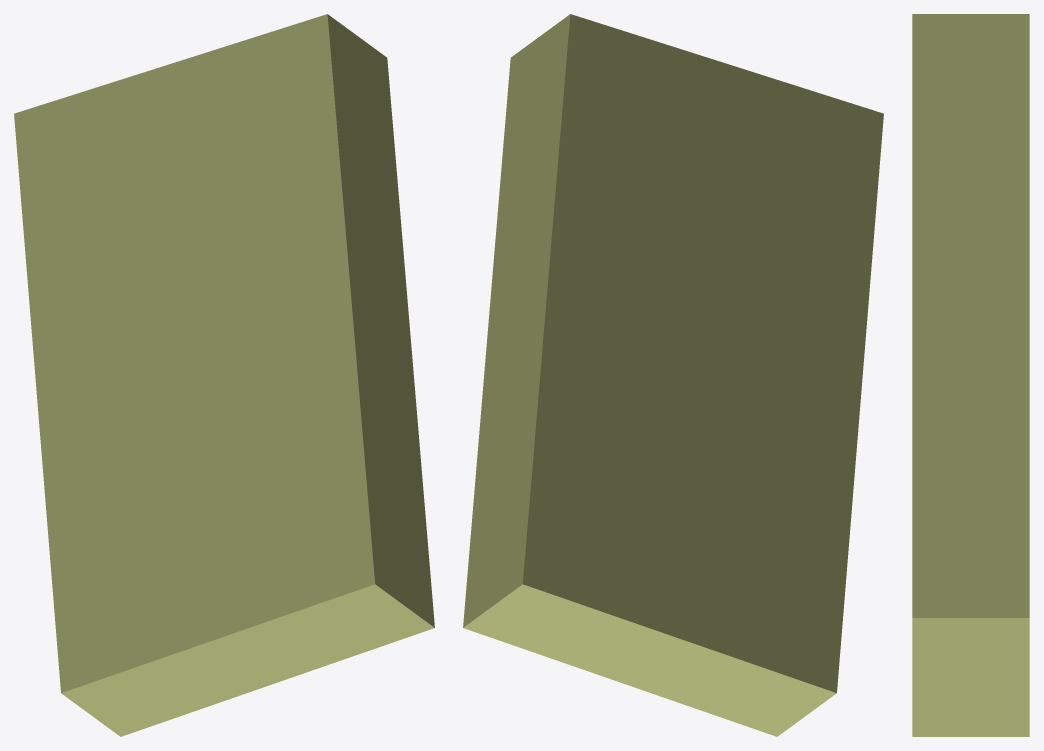
3 views of the same model, side by side, from view 1: azimuth 30°, elevation 25°; view 2: azimuth 150°, elevation 25°; view 3: azimuth 270°, elevation 25° (orthographic).
Parts seen in each view (by area): view 1: 0_1_1_3_2_2_3_2_3; view 2: 0_1_1_3_2_2_3_2_3; view 3: 0_1_1_3_2_2_3_2_3.
Part boxes in pixels (<box>): 0_1_1_3_2_2_3_2_3: <box>14,14,434,736</box>; 0_1_1_3_2_2_3_2_3: <box>463,14,883,736</box>; 0_1_1_3_2_2_3_2_3: <box>912,14,1029,736</box>.
Bounding box in the file's own units: 20.94 × 34.03 × 6.
